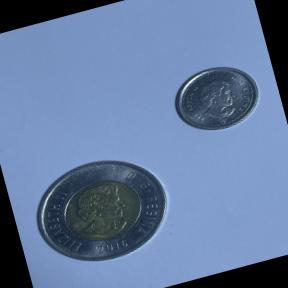coin: (20, 140, 185, 280), (163, 52, 272, 144)
